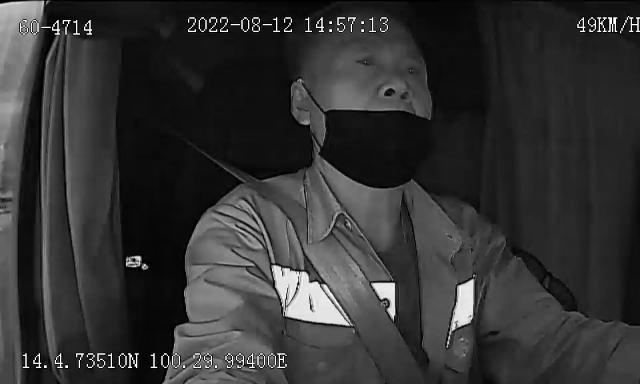SafeDriving: (370, 74, 411, 106), (396, 58, 426, 82)
Seatbelt: (193, 142, 427, 384)
